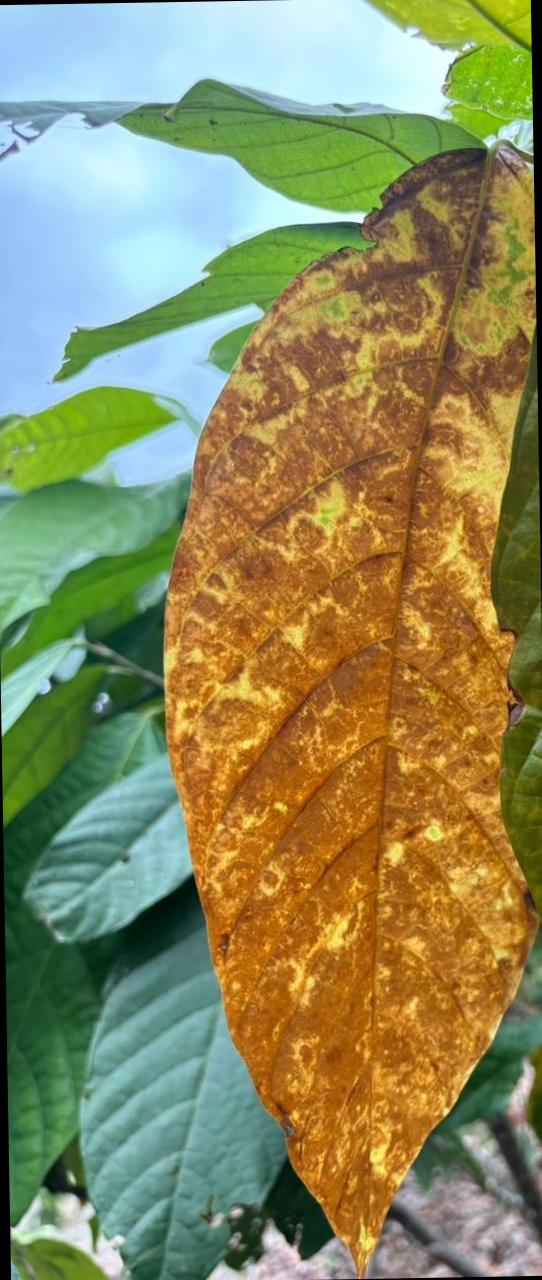Fosforo: (167, 144, 537, 1278)
